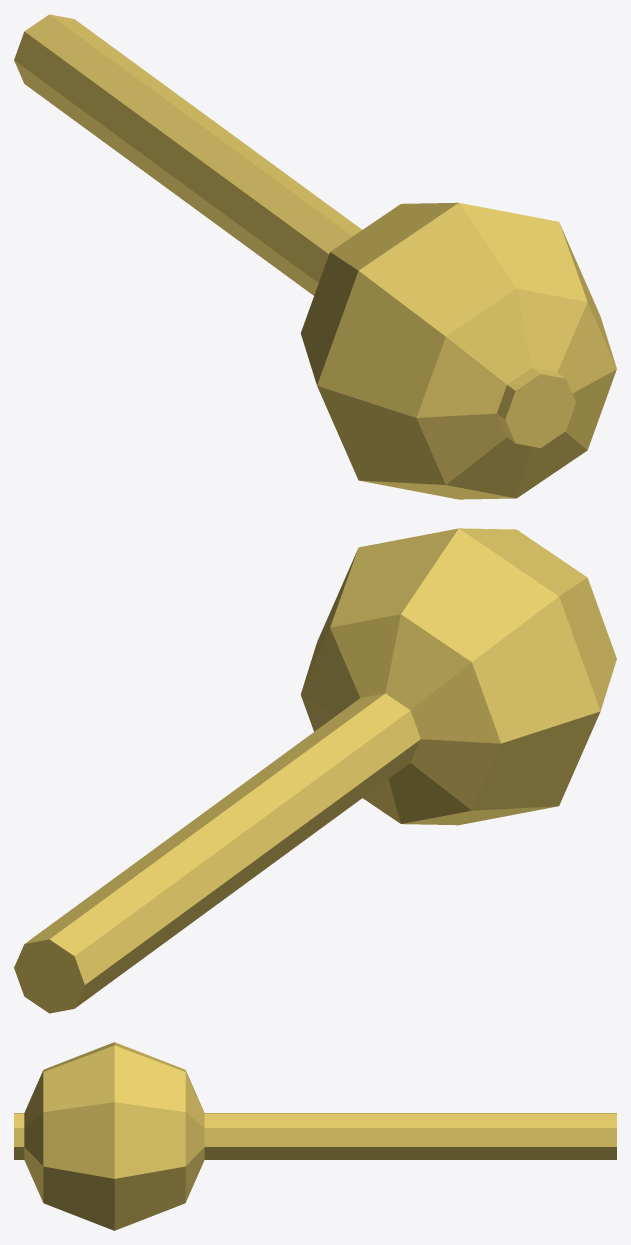
Rendered from mountain_barley.obj.
3 renders of one model, top to bottom at view 1: azimuth 30°, elevation 25°; view 2: azimuth 150°, elevation 25°; view 3: azimuth 270°, elevation 25°, orthographic. The views are drawn at different scales.
Bounding box in the file's own units: 0.4 × 0.4 × 1.2.
